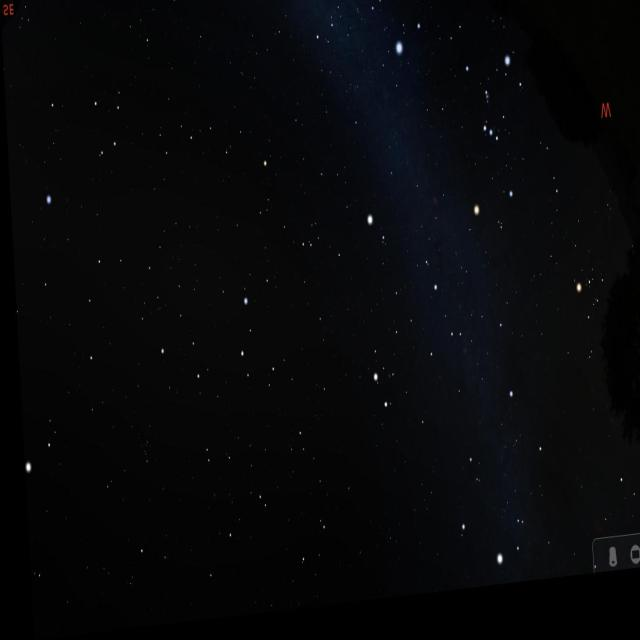bootes: (18, 439, 50, 625)
canis_major: (350, 0, 431, 88)
canis_minor: (363, 210, 388, 258)
gemini: (358, 265, 465, 425)
leo: (150, 279, 287, 416)
orion: (462, 59, 523, 230)
taurus: (565, 249, 640, 400)
